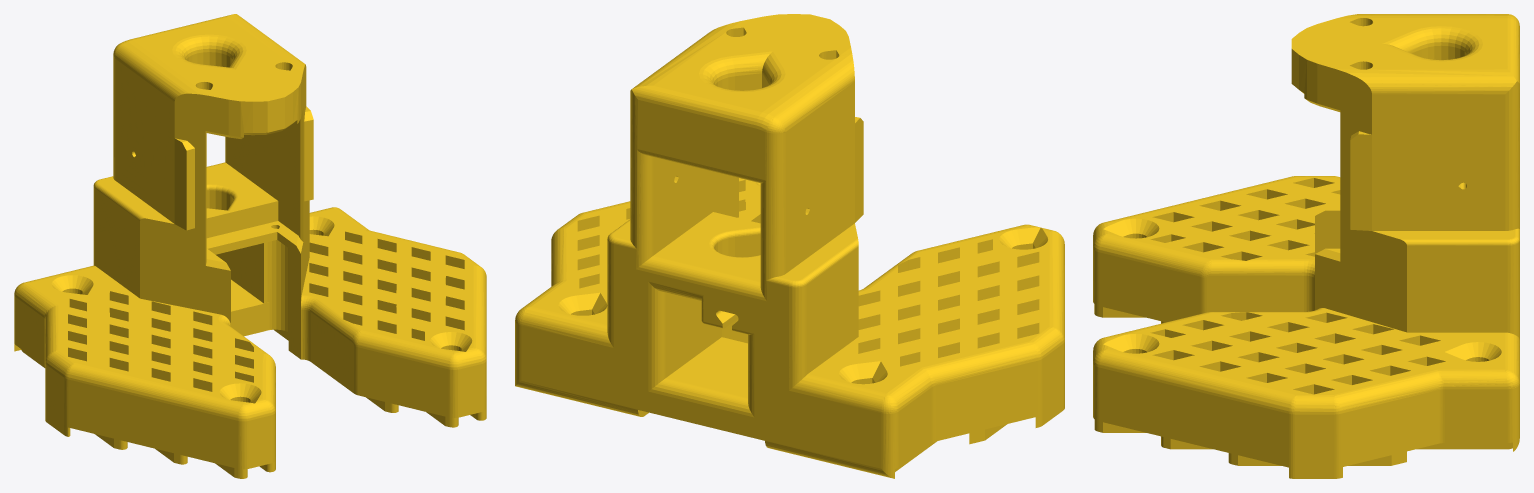
The picture shows the model from 3 angles, left to right: view 1: azimuth 30°, elevation 25°; view 2: azimuth 150°, elevation 25°; view 3: azimuth 270°, elevation 25°; orthographic projection. The views are drawn at different scales.
Parts seen in each view (by area): view 1: base_so101_v2; view 2: base_so101_v2; view 3: base_so101_v2.
Boxes of the visible parts, box(x1,y1,x2,y2) form: base_so101_v2: box(14, 14, 486, 478); base_so101_v2: box(515, 14, 1064, 478); base_so101_v2: box(1093, 14, 1519, 478).
Size of the model in its own units: 0.1109 by 0.072 by 0.087.
